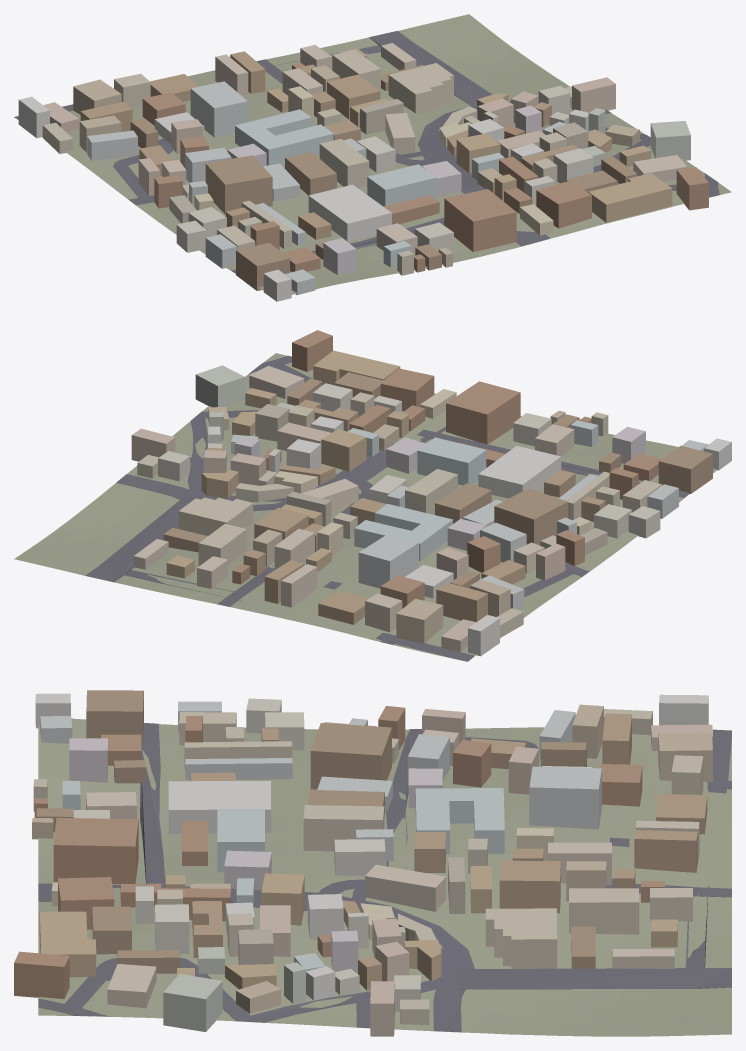
The model's file is chunk_7_4.glb.
3 views of the same model, one above another, from view 1: azimuth 30°, elevation 25°; view 2: azimuth 150°, elevation 25°; view 3: azimuth 270°, elevation 25° (orthographic). The views are drawn at different scales.
Visible parts, largest first — view 1: geometry_126, geometry_13, geometry_52, geometry_8, geometry_2, geometry_82, geometry_124, geometry_58, geometry_1, geometry_125, geometry_138, geometry_133 (+71 smaller); view 2: geometry_126, geometry_13, geometry_52, geometry_8, geometry_2, geometry_58, geometry_1, geometry_124, geometry_133, geometry_28, geometry_82, geometry_75 (+73 smaller); view 3: geometry_126, geometry_133, geometry_13, geometry_2, geometry_58, geometry_52, geometry_124, geometry_8, geometry_121, geometry_64, geometry_75, geometry_127 (+89 smaller).
Part boxes in pixels (x1,y1,x2,y2): geometry_126: [42, 14, 731, 294]; geometry_13: [444, 189, 516, 251]; geometry_52: [235, 109, 333, 165]; geometry_8: [308, 184, 391, 241]; geometry_2: [205, 155, 272, 214]; geometry_82: [588, 173, 672, 222]; geometry_124: [388, 63, 453, 113]; geometry_58: [190, 81, 247, 137]; geometry_1: [367, 164, 436, 206]; geometry_125: [536, 181, 591, 228]; geometry_138: [418, 106, 549, 246]; geometry_133: [369, 31, 491, 109]; geometry_126: [14, 353, 717, 661]; geometry_13: [446, 381, 520, 444]; geometry_52: [354, 504, 452, 561]; geometry_8: [478, 446, 561, 498]; geometry_2: [494, 488, 567, 545]; geometry_58: [358, 534, 418, 588]; geometry_1: [417, 437, 486, 485]; geometry_124: [178, 497, 253, 535]; geometry_133: [85, 497, 193, 582]; geometry_28: [658, 445, 712, 493]; geometry_82: [313, 350, 400, 384]; geometry_75: [195, 365, 244, 407]; geometry_126: [38, 718, 731, 1036]; geometry_133: [456, 968, 731, 989]; geometry_13: [53, 817, 138, 884]; geometry_2: [310, 723, 391, 789]; geometry_58: [529, 766, 601, 829]; geometry_52: [415, 788, 504, 854]; geometry_124: [485, 908, 557, 968]; geometry_8: [168, 781, 271, 833]; geometry_121: [569, 888, 639, 934]; geometry_64: [499, 860, 560, 913]; geometry_75: [163, 974, 222, 1031]; geometry_127: [140, 723, 165, 887].
Bounding box in the file's own units: 265 × 23.13 × 259.
